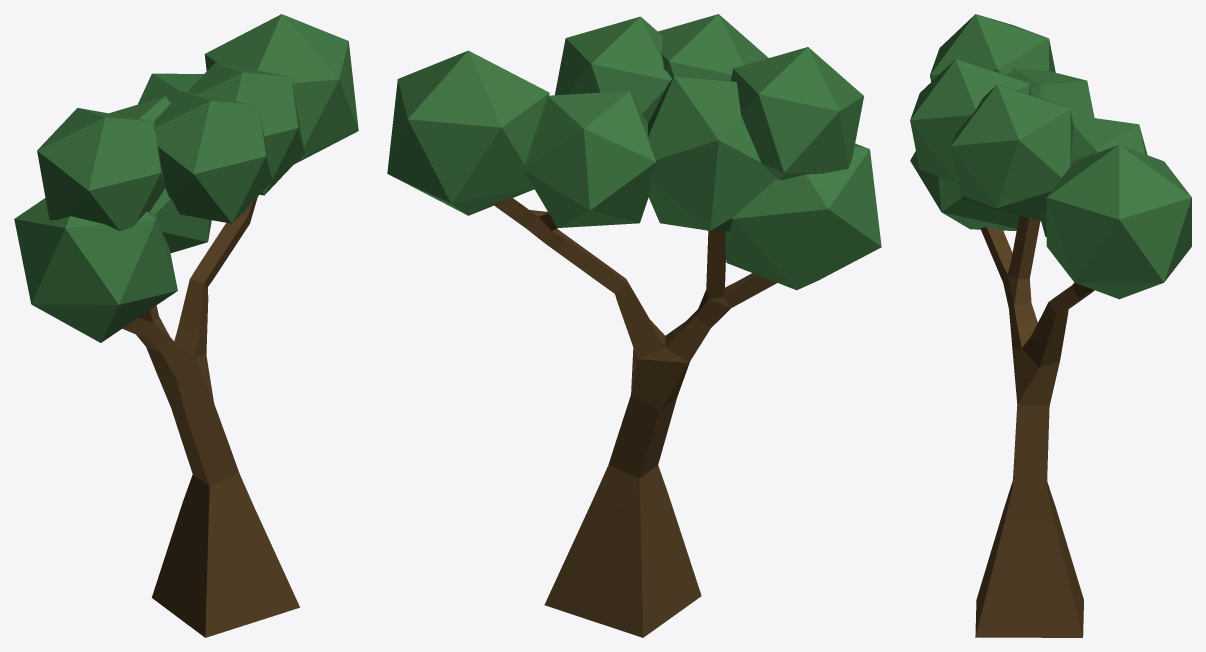
File: TREE 2.fbx
The picture shows the model from 3 angles, left to right: view 1: azimuth 30°, elevation 25°; view 2: azimuth 150°, elevation 25°; view 3: azimuth 270°, elevation 25°; orthographic projection. The views are drawn at different scales.
Parts seen in each view (by area): view 1: Cube, Icosphere.005, Icosphere.004, Icosphere.003, Icosphere, Icosphere.006, Icosphere.002, Icosphere.001; view 2: Cube, Icosphere, Icosphere.001, Icosphere.002, Icosphere.005, Icosphere.004, Icosphere.006, Icosphere.003; view 3: Cube, Icosphere, Icosphere.006, Icosphere.003, Icosphere.004, Icosphere.005, Icosphere.002, Icosphere.001.
Part boxes in pixels (x1,y1,x2,y2): Cube: [122, 197, 299, 637]; Icosphere.005: [14, 198, 177, 342]; Icosphere.004: [37, 108, 164, 231]; Icosphere.003: [153, 91, 272, 223]; Icosphere: [204, 14, 358, 164]; Icosphere.006: [187, 63, 304, 195]; Icosphere.002: [109, 96, 211, 252]; Icosphere.001: [137, 73, 203, 104]; Cube: [493, 198, 776, 637]; Icosphere: [387, 50, 549, 215]; Icosphere.001: [523, 91, 656, 227]; Icosphere.002: [648, 76, 776, 231]; Icosphere.005: [725, 143, 881, 290]; Icosphere.004: [731, 47, 863, 180]; Icosphere.006: [555, 16, 671, 123]; Icosphere.003: [658, 14, 768, 80]; Cube: [975, 216, 1094, 637]; Icosphere: [1046, 144, 1191, 299]; Icosphere.006: [951, 84, 1073, 219]; Icosphere.003: [910, 59, 1031, 183]; Icosphere.004: [930, 14, 1055, 81]; Icosphere.005: [910, 151, 1019, 230]; Icosphere.002: [961, 68, 1094, 221]; Icosphere.001: [1039, 115, 1147, 236].
Size of the model in its own units: 454 by 610 by 290.
